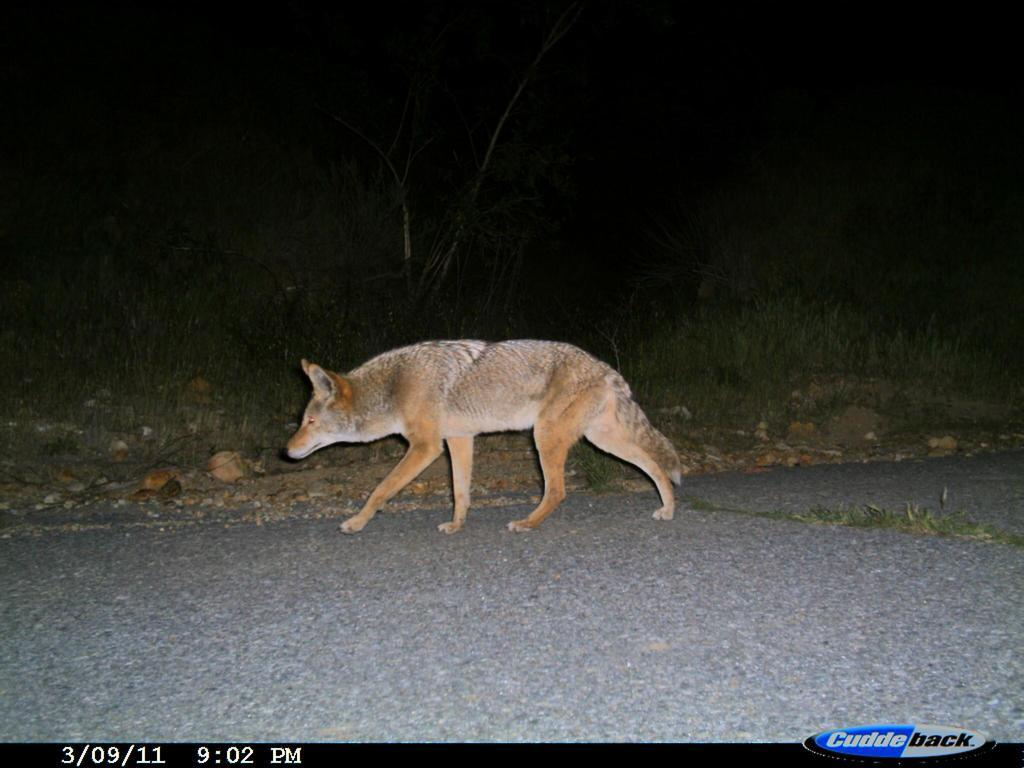coyote: (273, 329, 689, 542)
